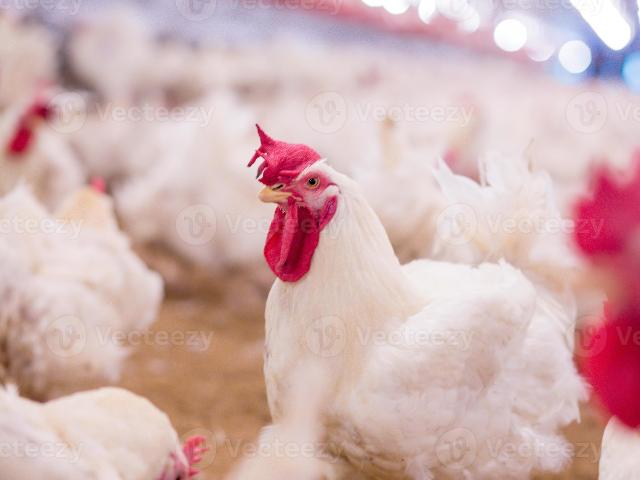Chicken: (244, 122, 592, 480)
